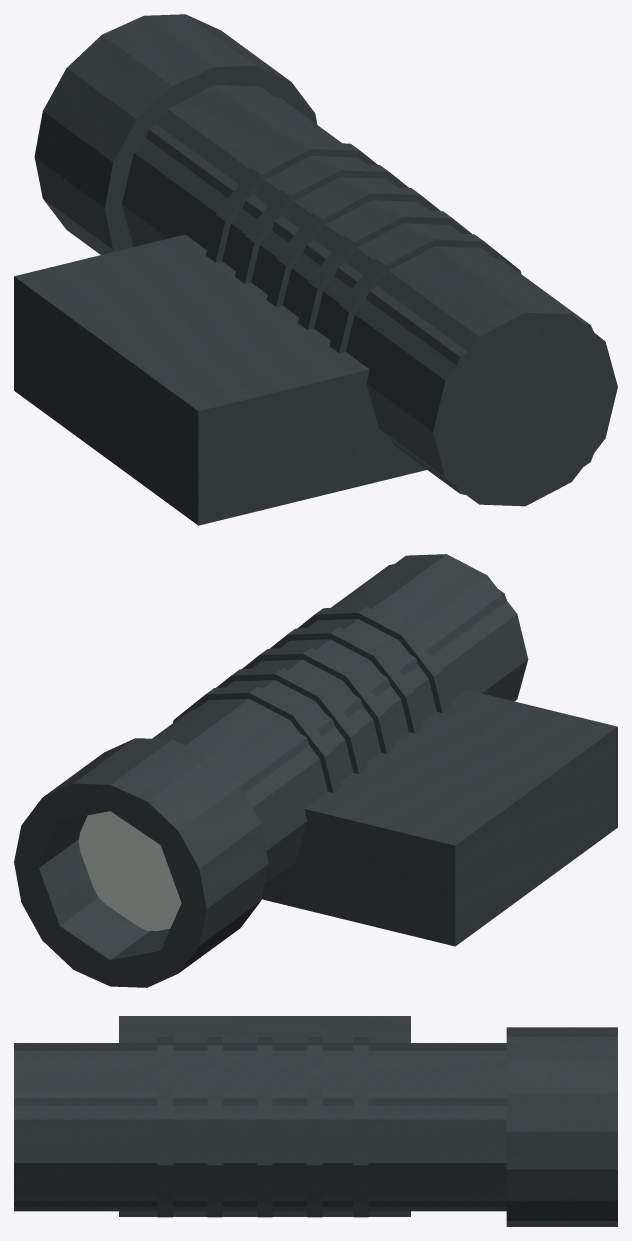
File: flashlight.glb
The picture shows the model from 3 angles, top to bottom: view 1: azimuth 30°, elevation 25°; view 2: azimuth 150°, elevation 25°; view 3: azimuth 270°, elevation 25°; orthographic projection. The views are drawn at different scales.
Parts seen in each view (by area): view 1: flashlight_battery_tube, flashlight_battery_tube.001; view 2: flashlight_battery_tube, flashlight_battery_tube.001, flashlight_reflector; view 3: flashlight_battery_tube, flashlight_battery_tube.001.
Boxes of the visible parts, left/top/right/bottom form: flashlight_battery_tube: left=14, top=14, right=617, bottom=525; flashlight_battery_tube.001: left=105, top=67, right=617, bottom=505; flashlight_battery_tube: left=14, top=554, right=617, bottom=987; flashlight_battery_tube.001: left=14, top=564, right=506, bottom=985; flashlight_reflector: left=78, top=811, right=181, bottom=931; flashlight_battery_tube: left=14, top=1016, right=617, bottom=1226; flashlight_battery_tube.001: left=14, top=1092, right=506, bottom=1206.
Bounding box in the file's own units: 0.088 × 0.052 × 0.1573.
Materials: 2 (1 with a texture image).
